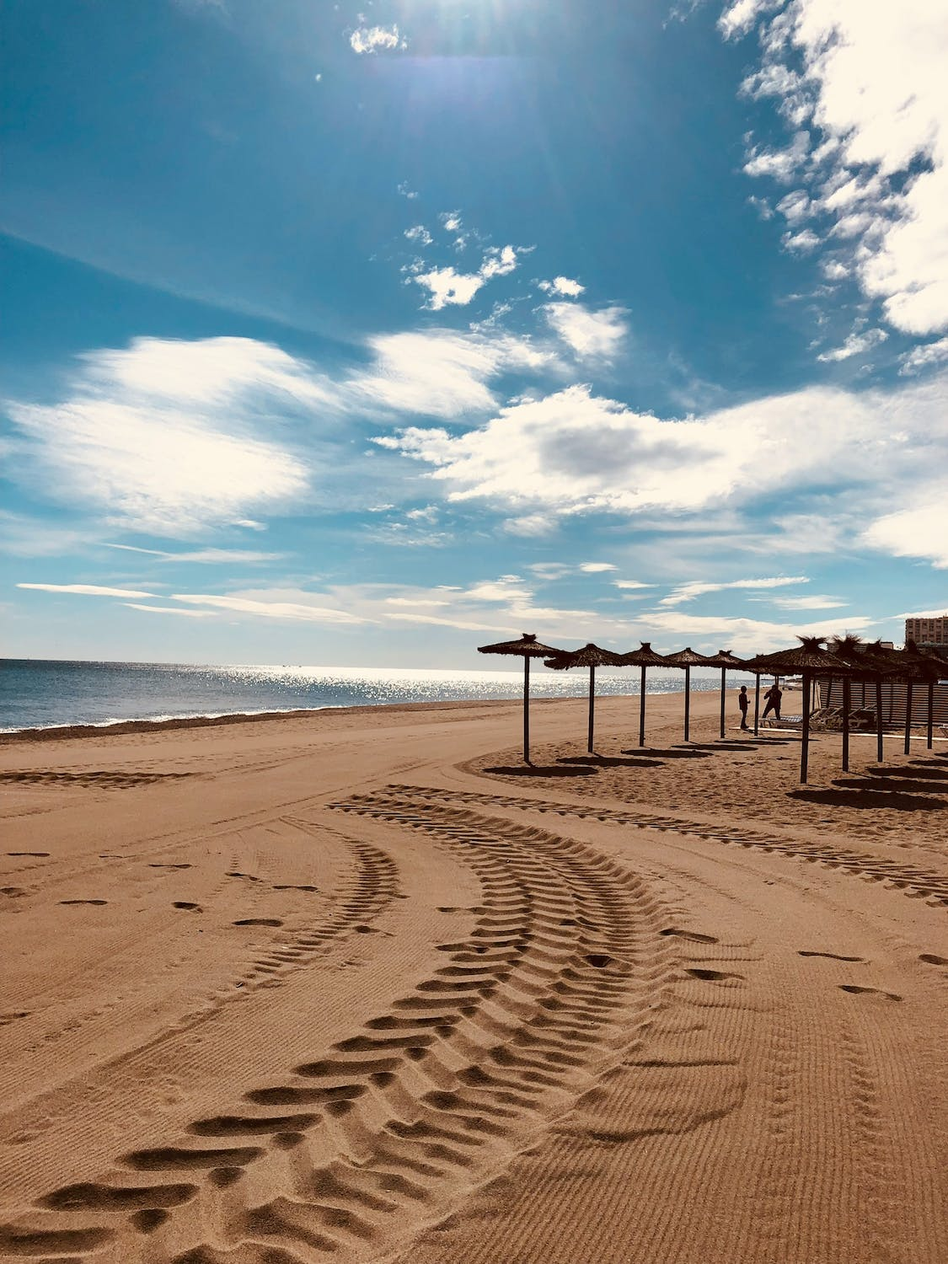human_footprint: (8, 811, 926, 1017)
